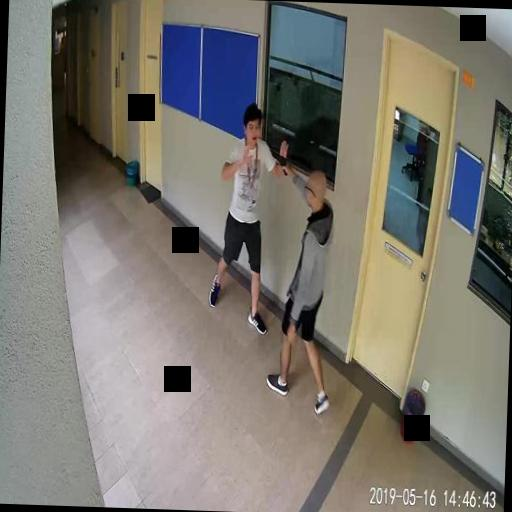Handgun: (269, 147, 287, 174)
